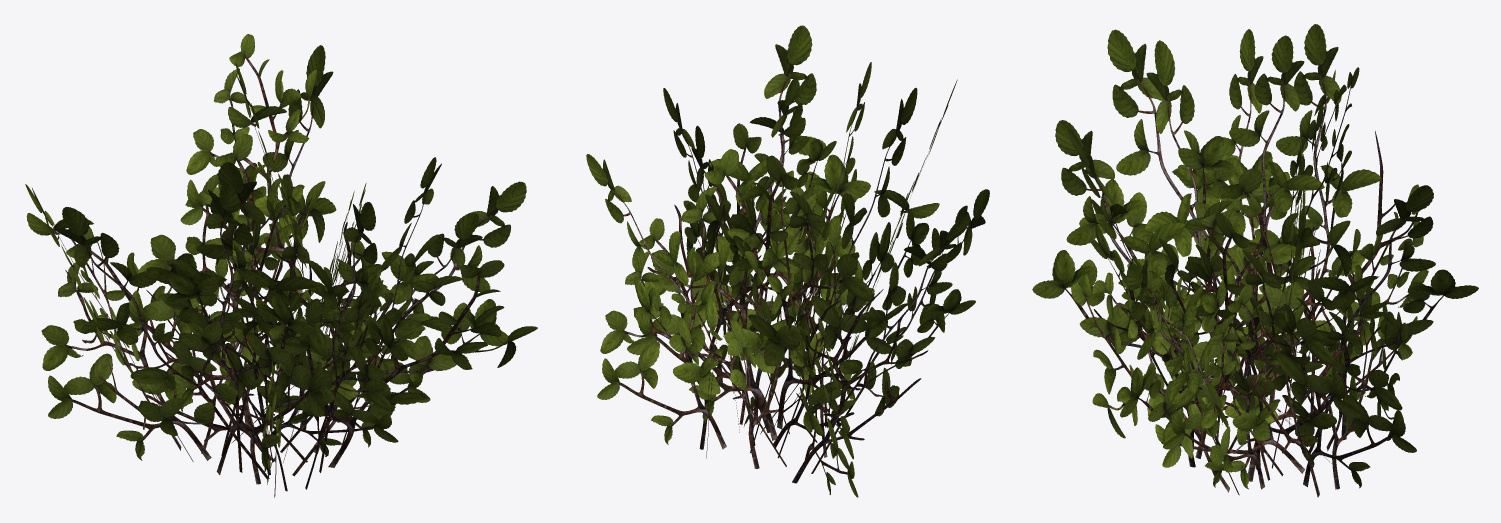
The model's file is Bush.fbx.
The picture shows the model from 3 angles, left to right: view 1: azimuth 30°, elevation 25°; view 2: azimuth 150°, elevation 25°; view 3: azimuth 270°, elevation 25°; orthographic projection. The views are drawn at different scales.
Parts seen in each view (by area): view 1: Bush_02; view 2: Bush_02; view 3: Bush_02.
Boxes of the visible parts, x1,y1,x2,y2 form: Bush_02: (25,34,537,497); Bush_02: (586,25,989,497); Bush_02: (1032,24,1478,497).
Bounding box in the file's own units: 123 × 120 × 111.
